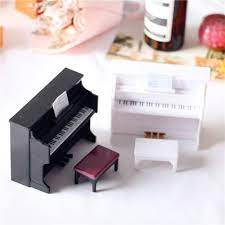Piano: (1, 63, 107, 205), (97, 68, 225, 163)
